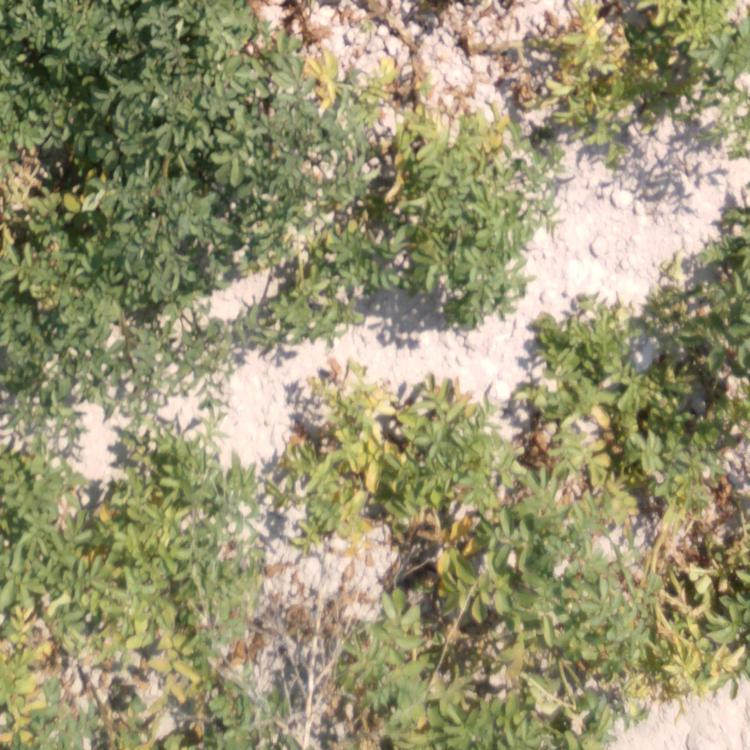healthy: (1, 164, 299, 373), (1, 1, 296, 161)
stressed: (301, 375, 568, 748), (1, 426, 268, 744), (309, 64, 493, 327), (583, 444, 750, 688), (536, 6, 750, 155), (559, 299, 750, 429), (657, 213, 750, 287)
